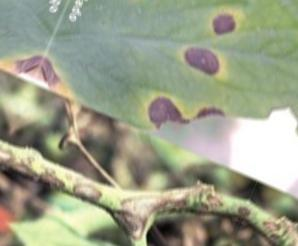Tomato Early blight leaf: (38, 0, 298, 178)
